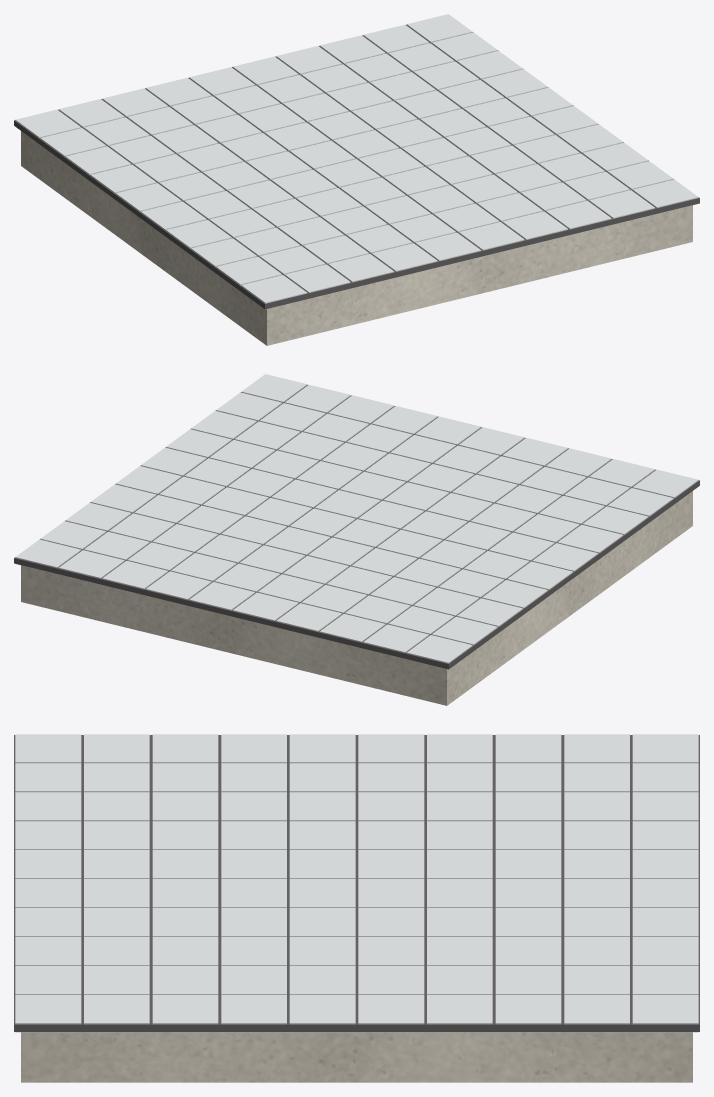
File: floor_tile_bath.glb
3 renders of one model, top to bottom at view 1: azimuth 30°, elevation 25°; view 2: azimuth 150°, elevation 25°; view 3: azimuth 270°, elevation 25°, orthographic. The views are drawn at different scales.
Parts seen in each view (by area): view 1: floor_tile_bath_tile, floor_tile_bath_plaster, floor_tile_bath_dark; view 2: floor_tile_bath_tile, floor_tile_bath_plaster, floor_tile_bath_dark; view 3: floor_tile_bath_tile, floor_tile_bath_plaster, floor_tile_bath_dark.
Part boxes in pixels (bbox=[...]): floor_tile_bath_tile: bbox=[15, 14, 698, 309]; floor_tile_bath_plaster: bbox=[21, 131, 692, 345]; floor_tile_bath_dark: bbox=[14, 24, 699, 309]; floor_tile_bath_tile: bbox=[15, 374, 698, 669]; floor_tile_bath_plaster: bbox=[21, 491, 692, 705]; floor_tile_bath_dark: bbox=[14, 384, 699, 669]; floor_tile_bath_tile: bbox=[15, 734, 698, 1032]; floor_tile_bath_plaster: bbox=[21, 1032, 692, 1082]; floor_tile_bath_dark: bbox=[14, 735, 699, 1031].
Size of the model in its own units: 2 by 0.2 by 2.
Materials: 3 (1 with a texture image).
